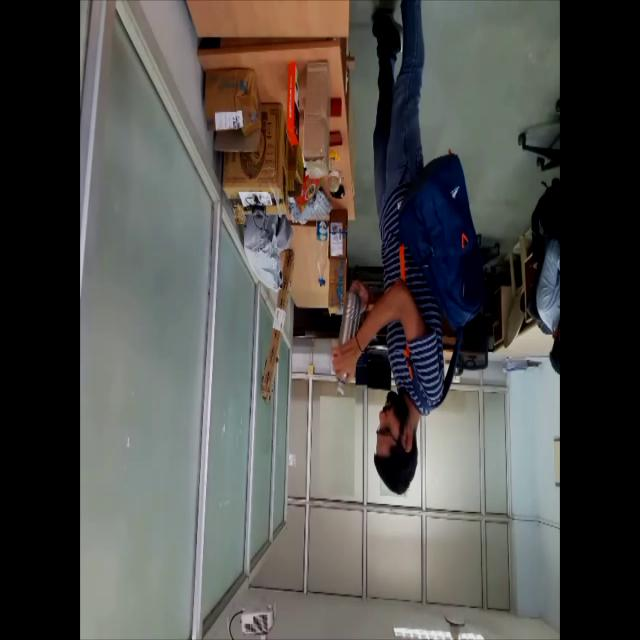normal: (330, 0, 488, 499)
